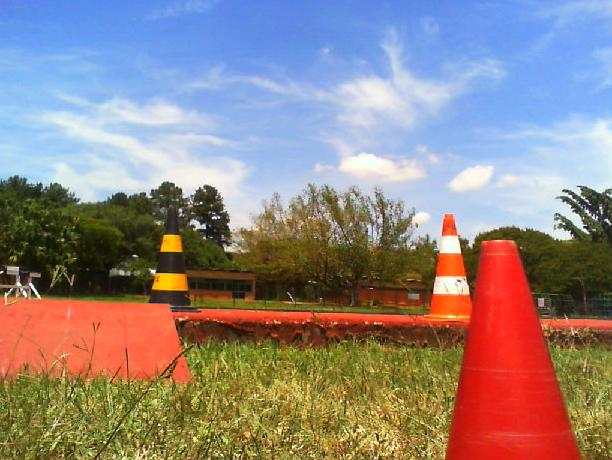0 cone: (443, 240, 582, 460), (415, 214, 473, 322), (148, 210, 202, 313)
